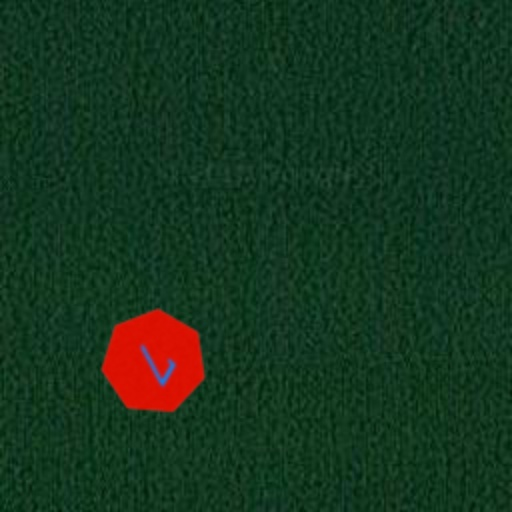heptagon: (80, 288, 228, 436)
